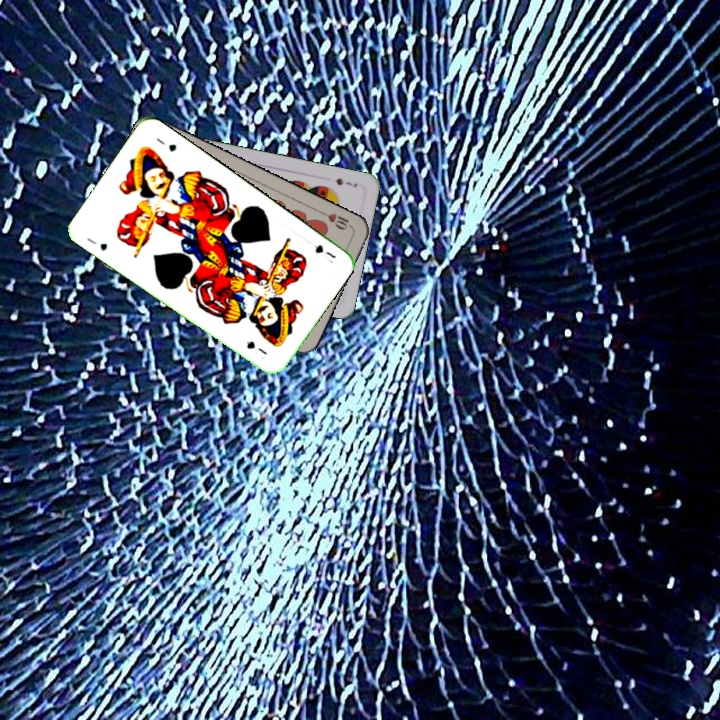GU: (311, 240, 338, 261), (83, 234, 110, 253)
H10: (318, 208, 356, 232)
S7: (332, 174, 360, 190)
